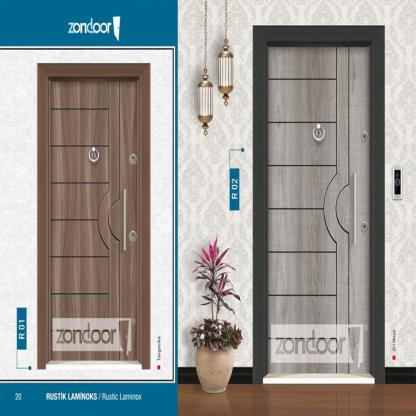door: (268, 47, 368, 374), (49, 80, 136, 362)
